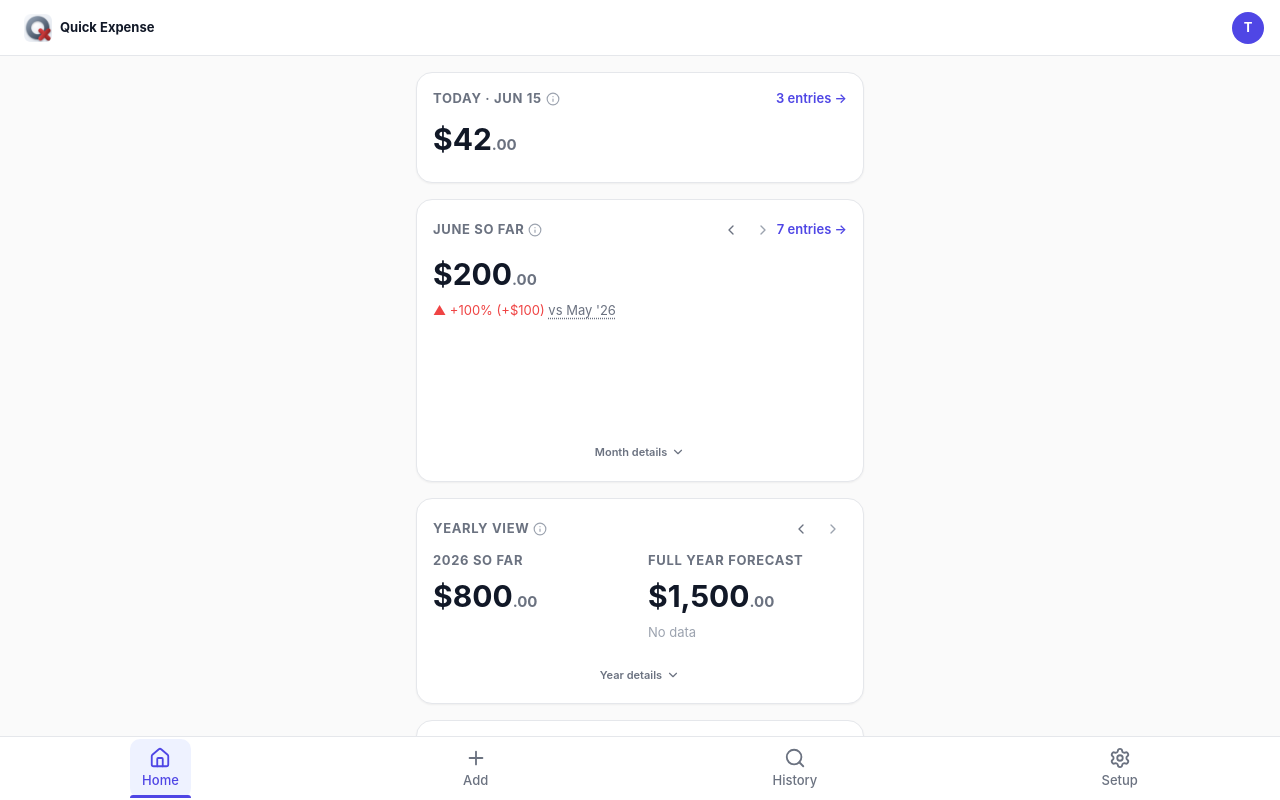
Scenario: HomePage — stale cached metrics › toggles the prior-period total without changing its deviation
Click the button with aria-label "Show May '26 total".
click(582, 310)  # box [548,300,616,320]
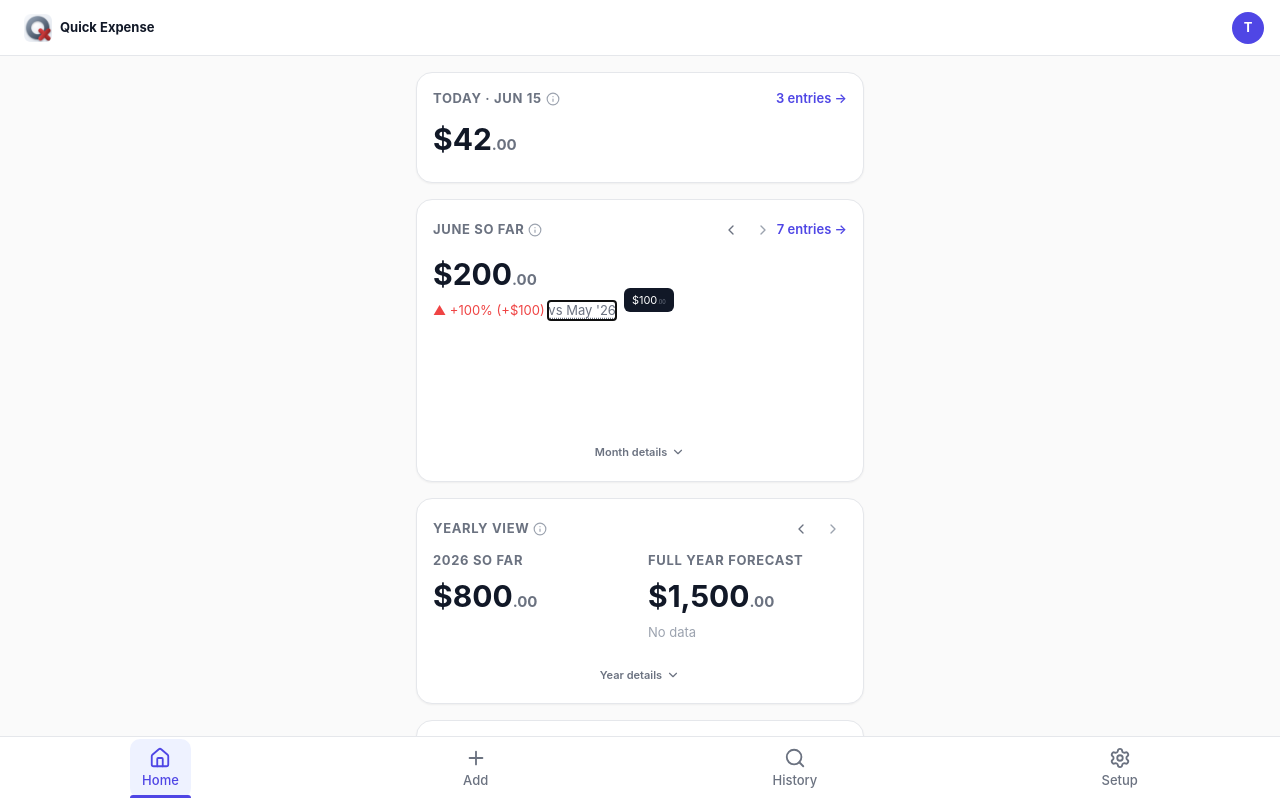
Expected: the text with class "yoy-up" shows "+100%", [433,302,545,318]
Expected: the tooltip reads "$100.00", [624,288,674,312]
Click the button with aria-label "Show May '26 total".
click(582, 310)  # box [548,300,616,320]
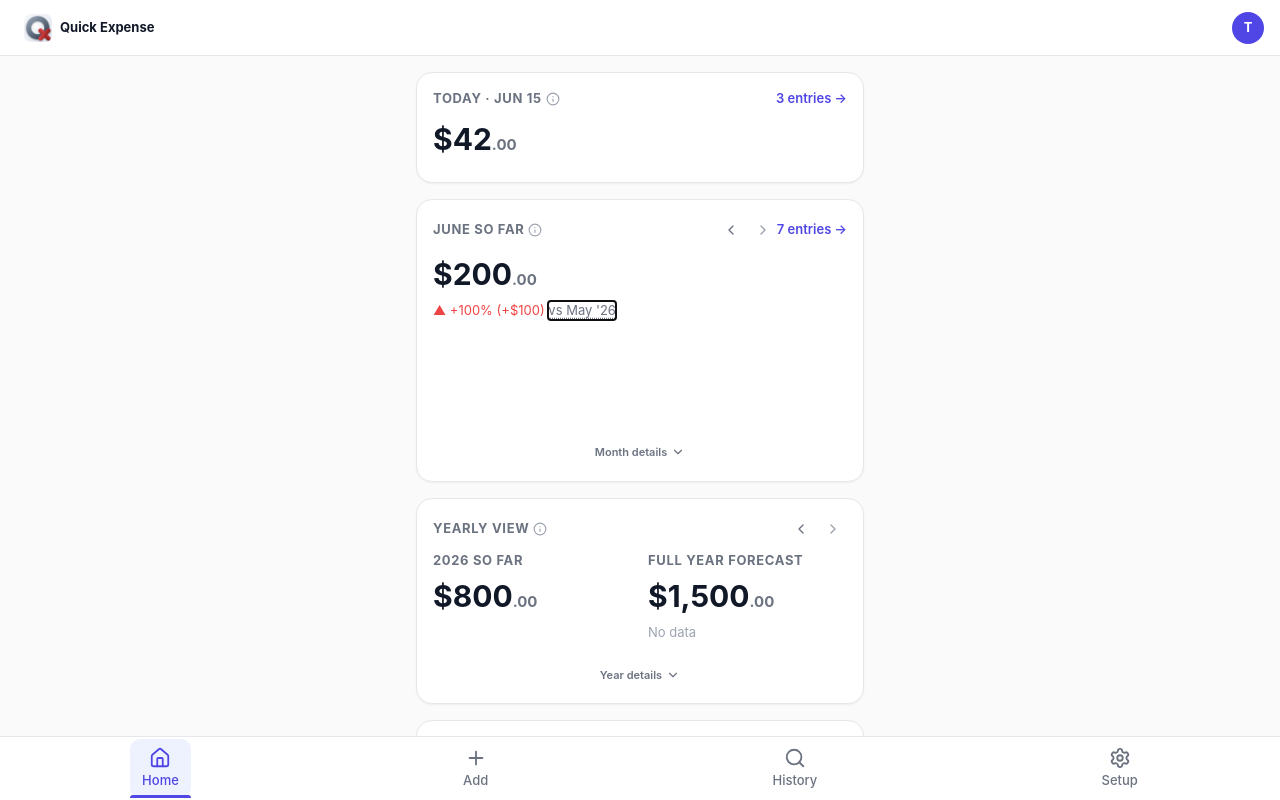
Expected: the tooltip "$100.00" is gone
